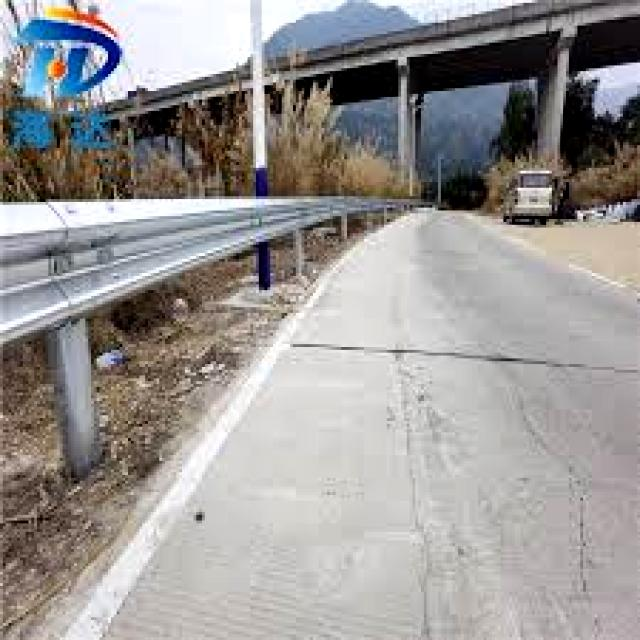Guard rail: (1, 202, 406, 344)
